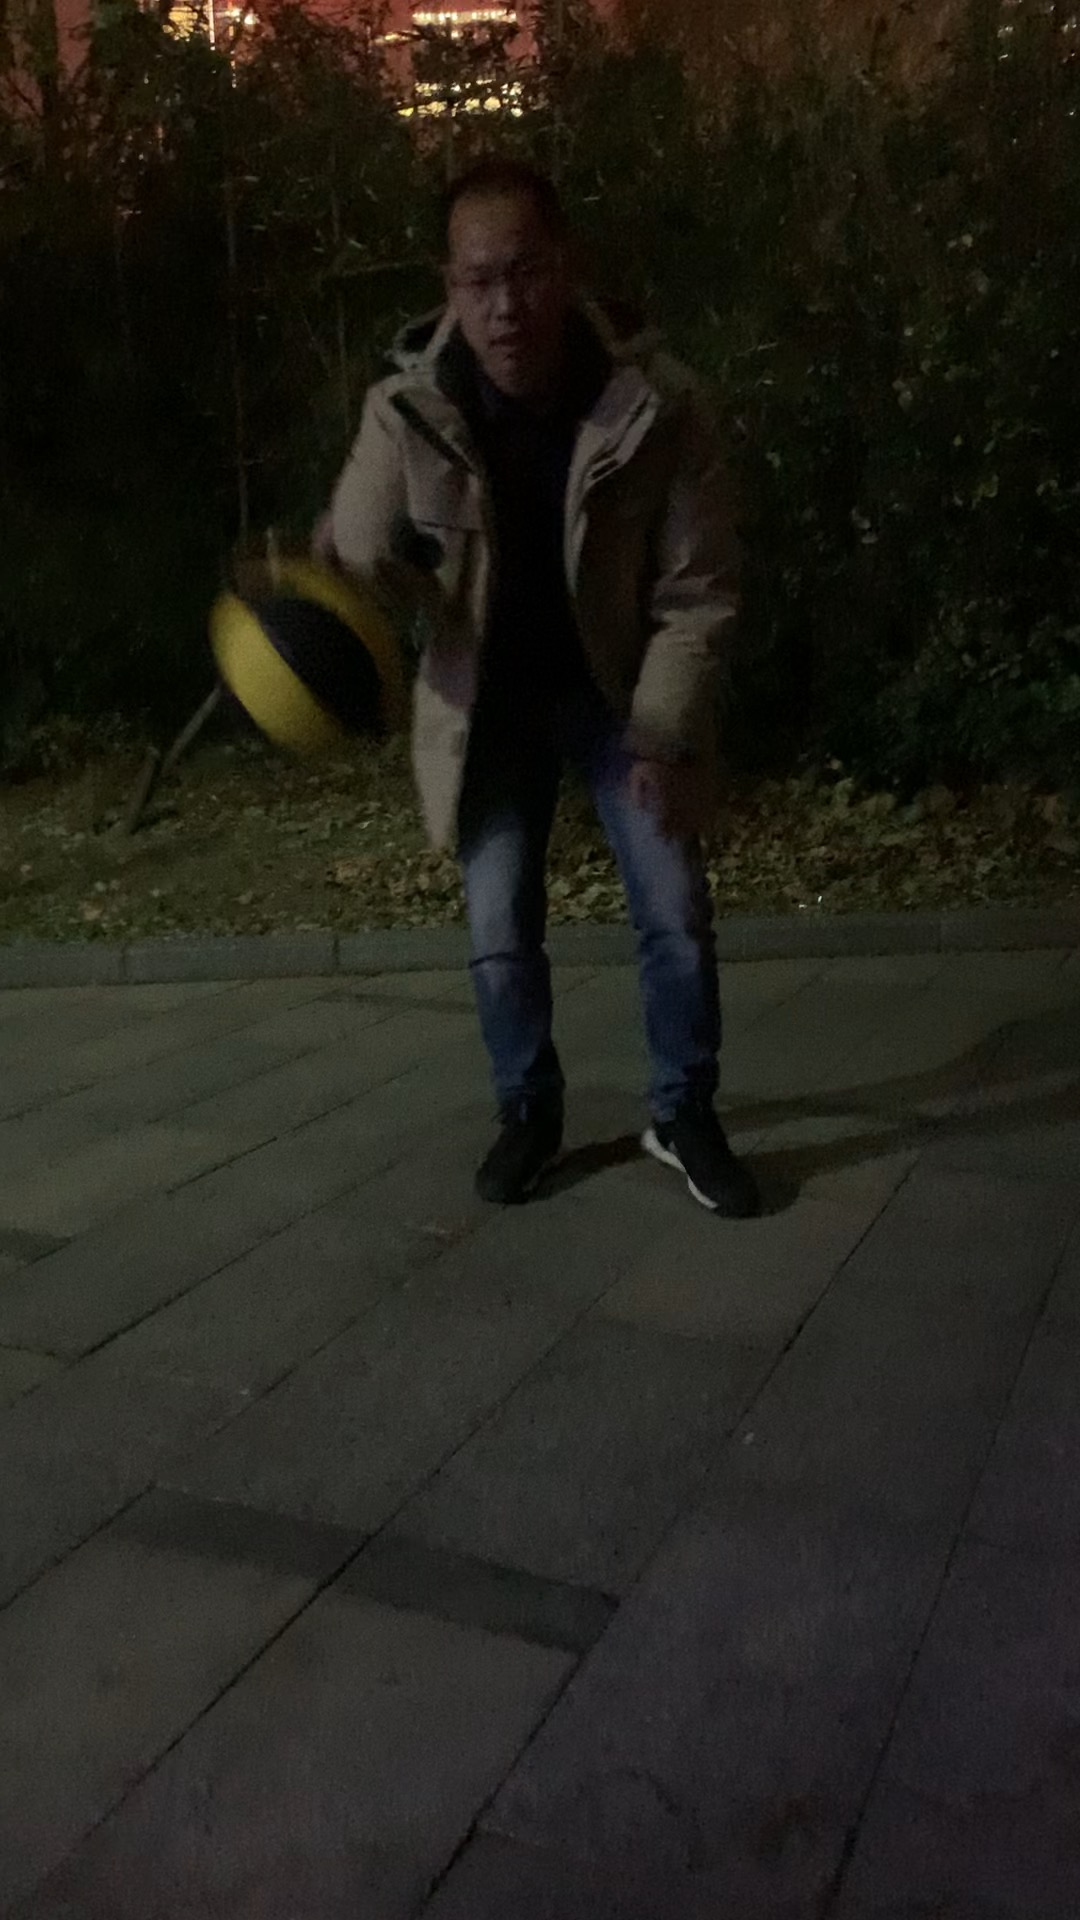ball: (211, 551, 422, 753)
